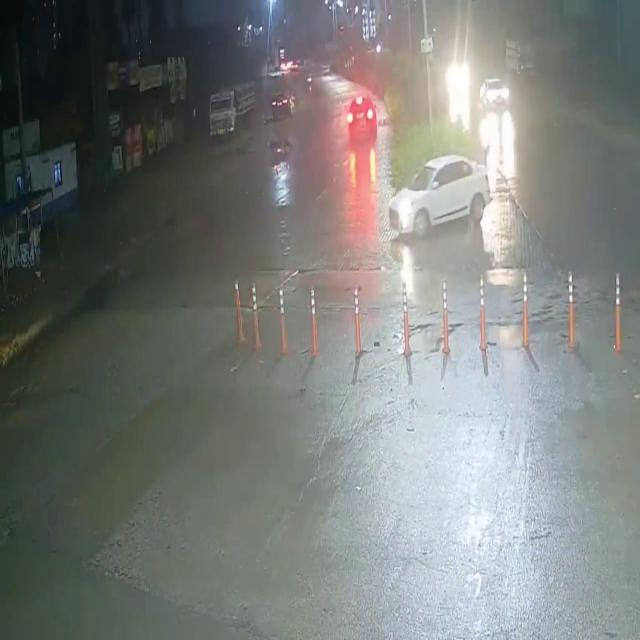accident: (262, 133, 298, 182)
